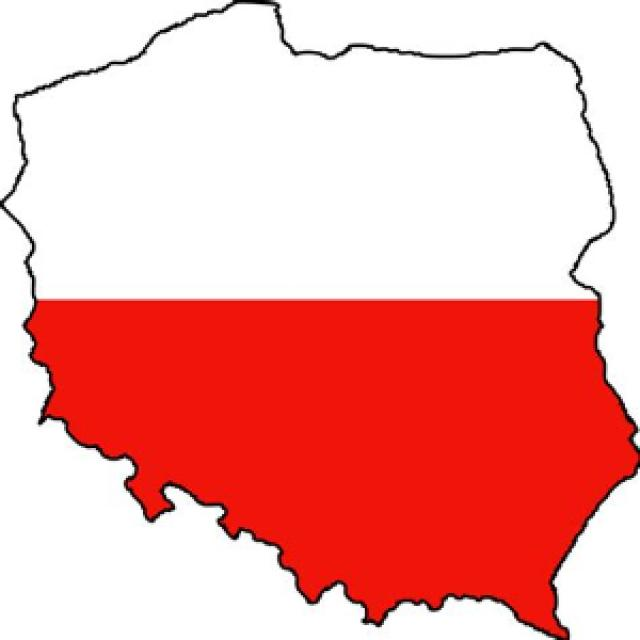poland: (21, 49, 633, 614)
